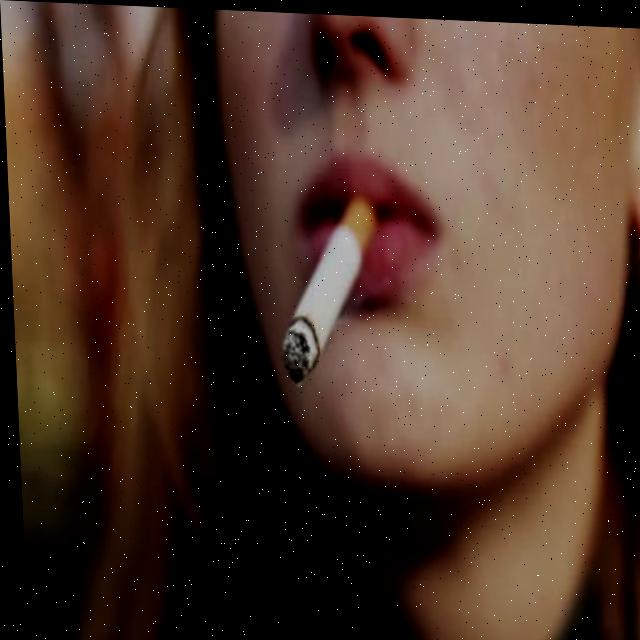cigarette: (271, 190, 384, 386)
